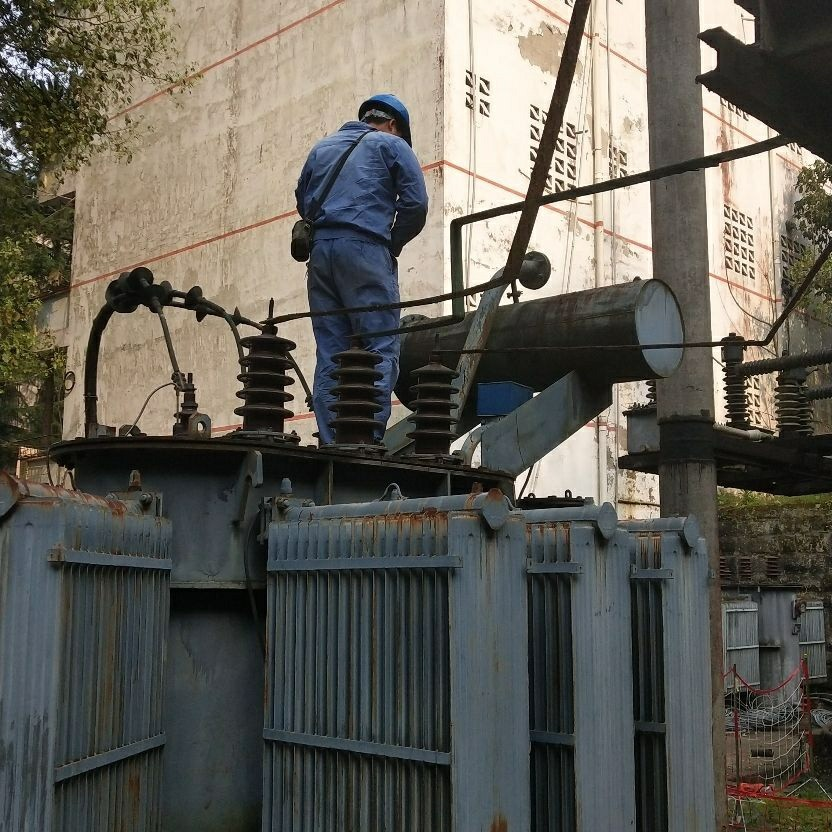hat: (355, 88, 415, 140)
